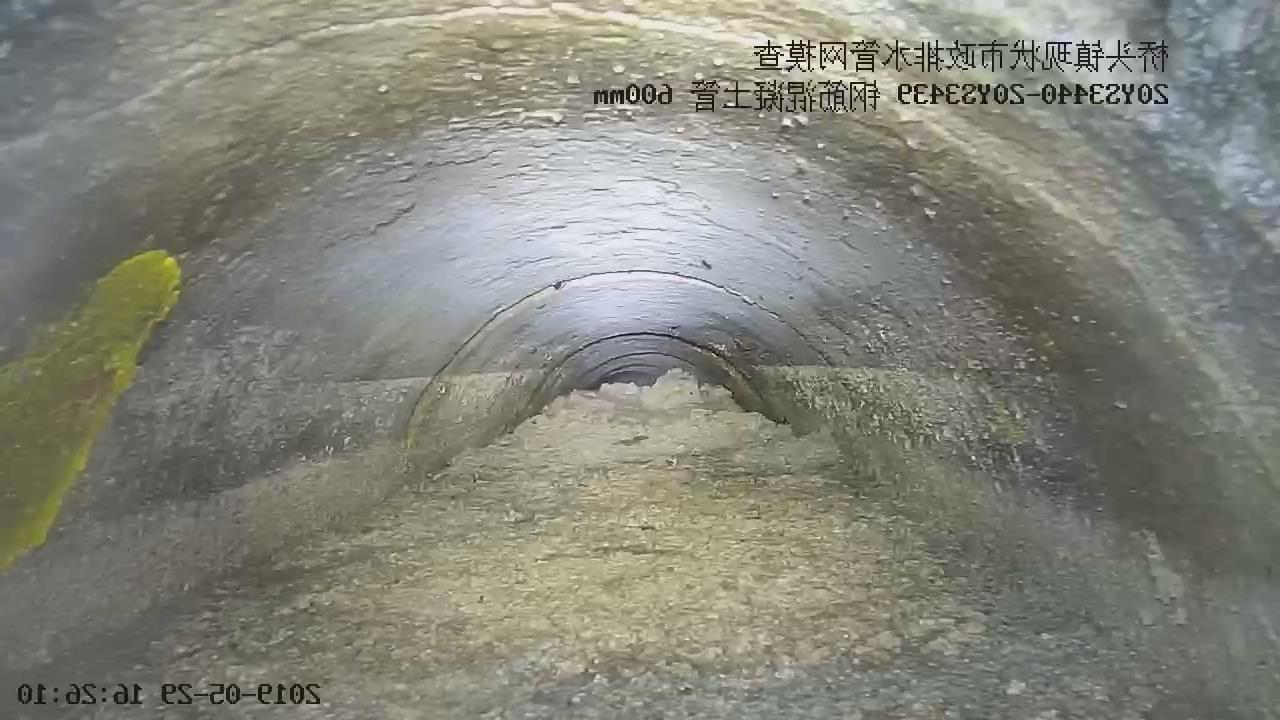CJ: (50, 372, 1236, 719)
CKTJ: (398, 268, 858, 456), (539, 328, 768, 401)
